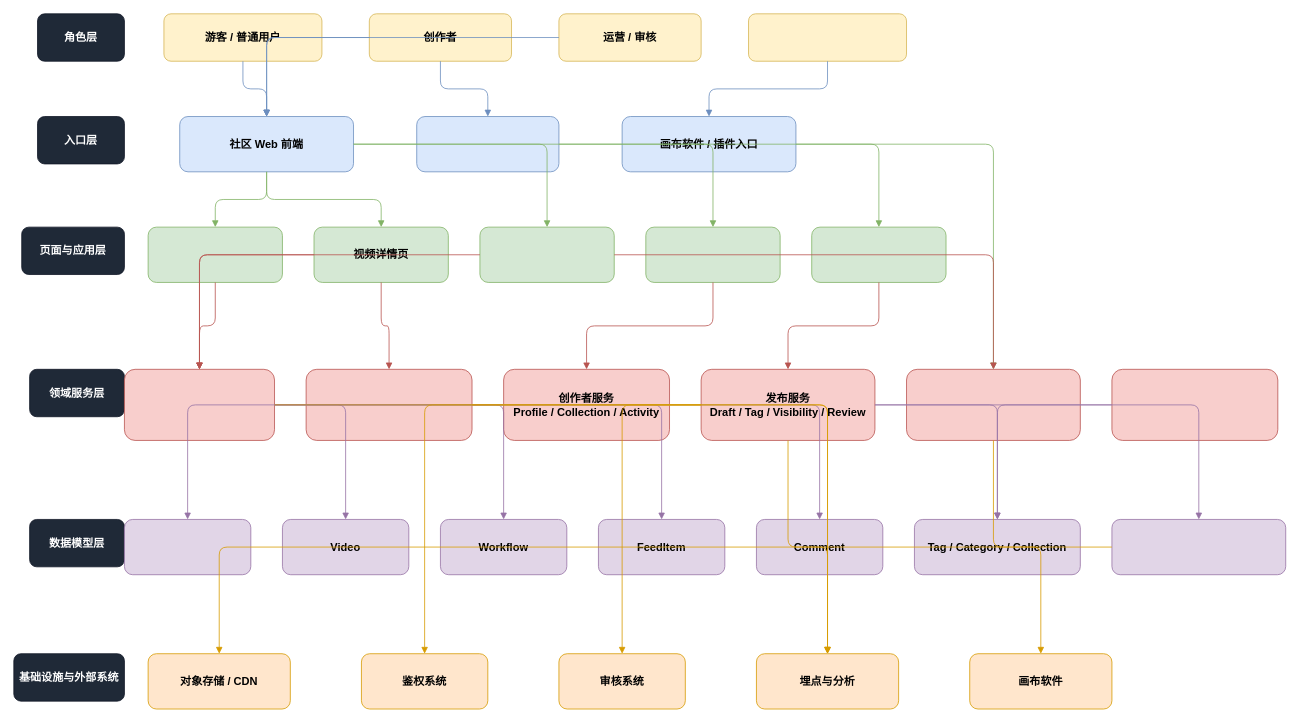
The diagram is 1300 pixels wide and 723 high, and some of its shapes have lost their labels. The centre of each missing label's shape, as x and y in pixels:
MediaAsset cover / poster / preview / source: the point at 1198,547
User: the point at 187,547
作者主页: the point at 712,254
内容服务 Video / Workflow / Feed: the point at 199,404
发布中心: the point at 487,144
发布页: the point at 878,254
工作流详情页: the point at 546,254
画布联动服务 Open in Canvas / Duplicate / Bind: the point at 993,404
画布软件用户: the point at 827,37
社交服务 Comment / Like / Favorite / Follow: the point at 388,404
社区首页: the point at 214,254
运营服务 Featured / Challenge / Moderation: the point at 1194,404
